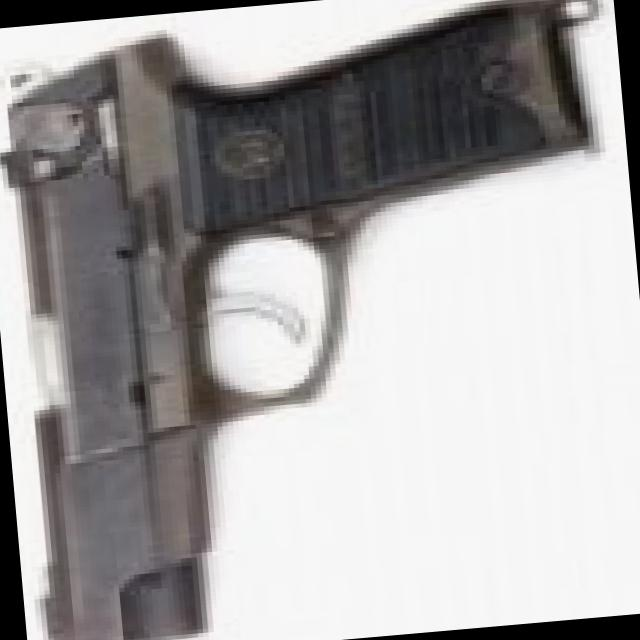handgun: (0, 5, 624, 639)
